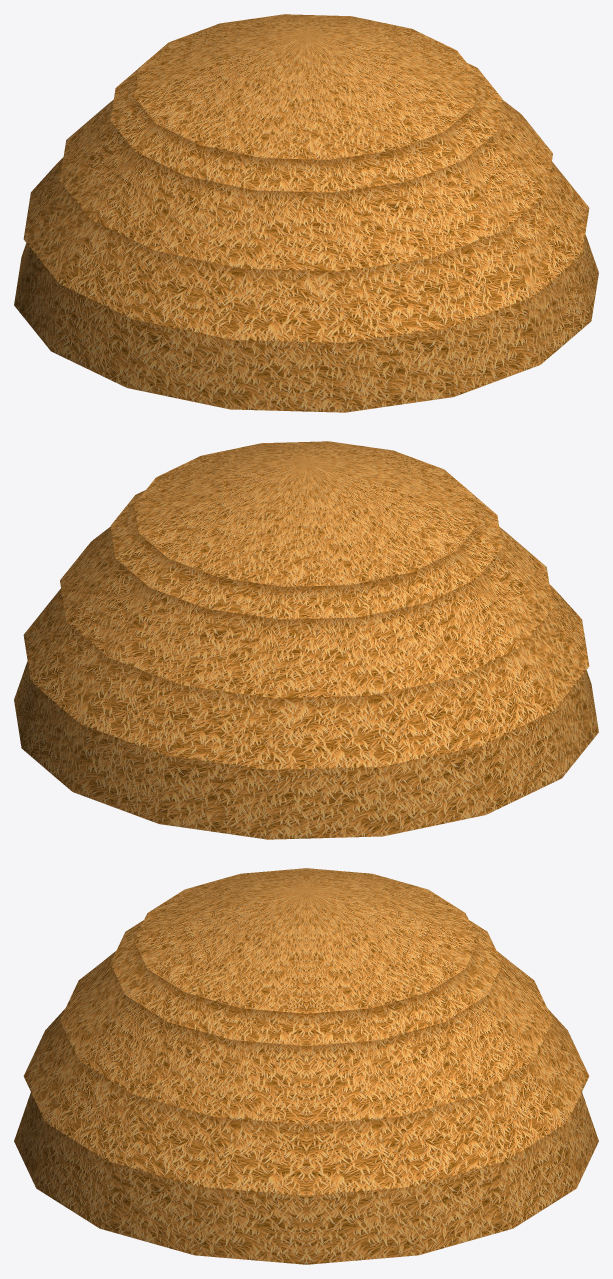
Rendered from HayStack04.FBX.
3 views of the same model, one above another, from view 1: azimuth 30°, elevation 25°; view 2: azimuth 150°, elevation 25°; view 3: azimuth 270°, elevation 25° (orthographic).
Visible parts, largest first — view 1: HayStack04; view 2: HayStack04; view 3: HayStack04.
Part boxes in pixels (left/top/right/bottom): HayStack04: left=14, top=14, right=598, bottom=412; HayStack04: left=14, top=441, right=598, bottom=839; HayStack04: left=14, top=868, right=598, bottom=1264.
Size of what is drawn, in the model's own units: 4.74 by 2.25 by 4.74.
